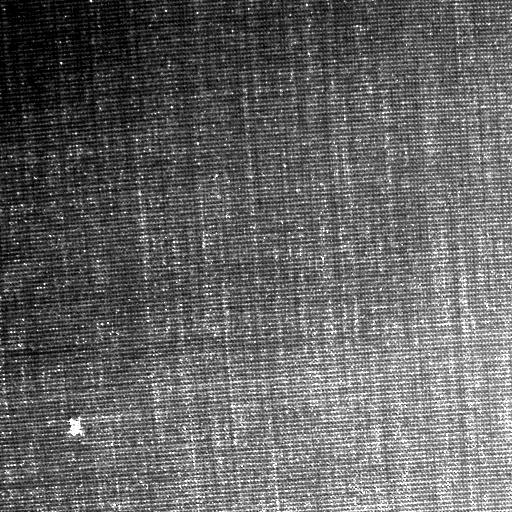fabric_hole: (64, 413, 92, 447)
